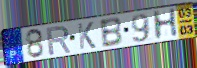8: (25, 28, 45, 60)
9: (131, 13, 153, 44)
B: (98, 16, 124, 49)
H: (151, 7, 180, 42)
K: (76, 21, 97, 51)
R: (45, 25, 72, 57)
